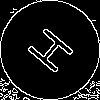H: (25, 25, 83, 82)
